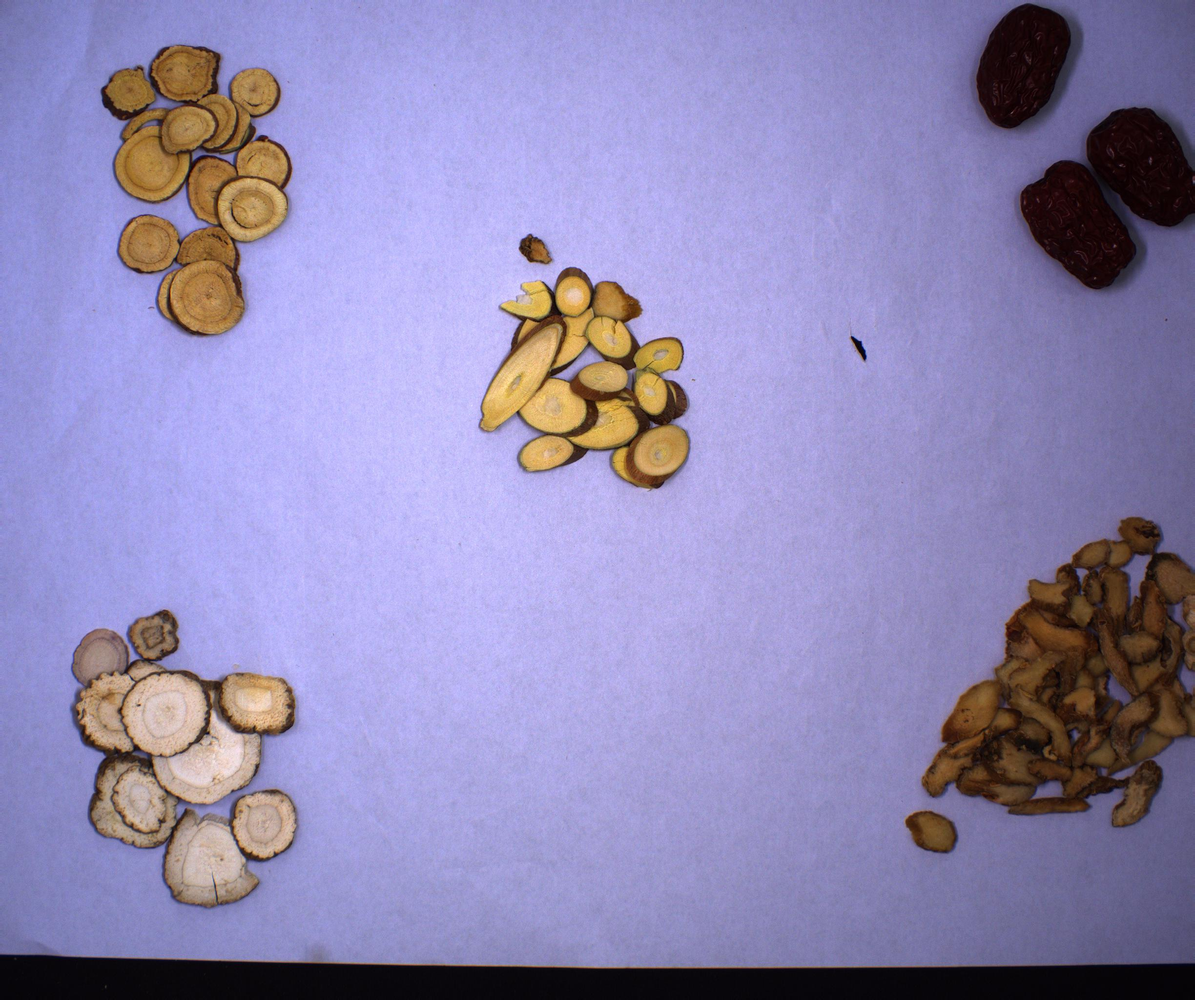baizhi: (47, 604, 371, 913)
dazao: (935, 10, 1195, 289)
gancao: (92, 45, 356, 351)
yuzhu: (859, 513, 1195, 849), (442, 224, 770, 512)
